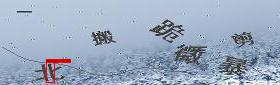chinese: (175, 42, 210, 67), (33, 58, 67, 83), (151, 19, 185, 43), (88, 26, 119, 52), (217, 53, 252, 76), (233, 30, 261, 48)
